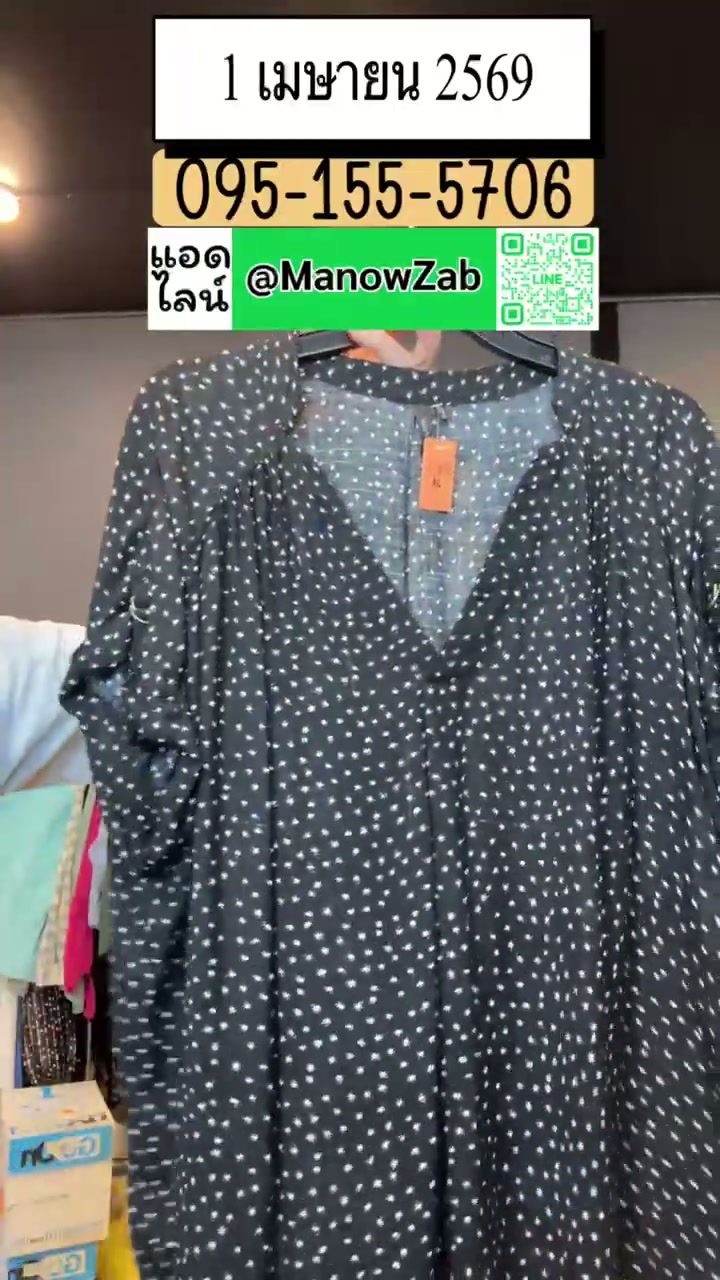display_shirt: (63, 335, 719, 1279)
